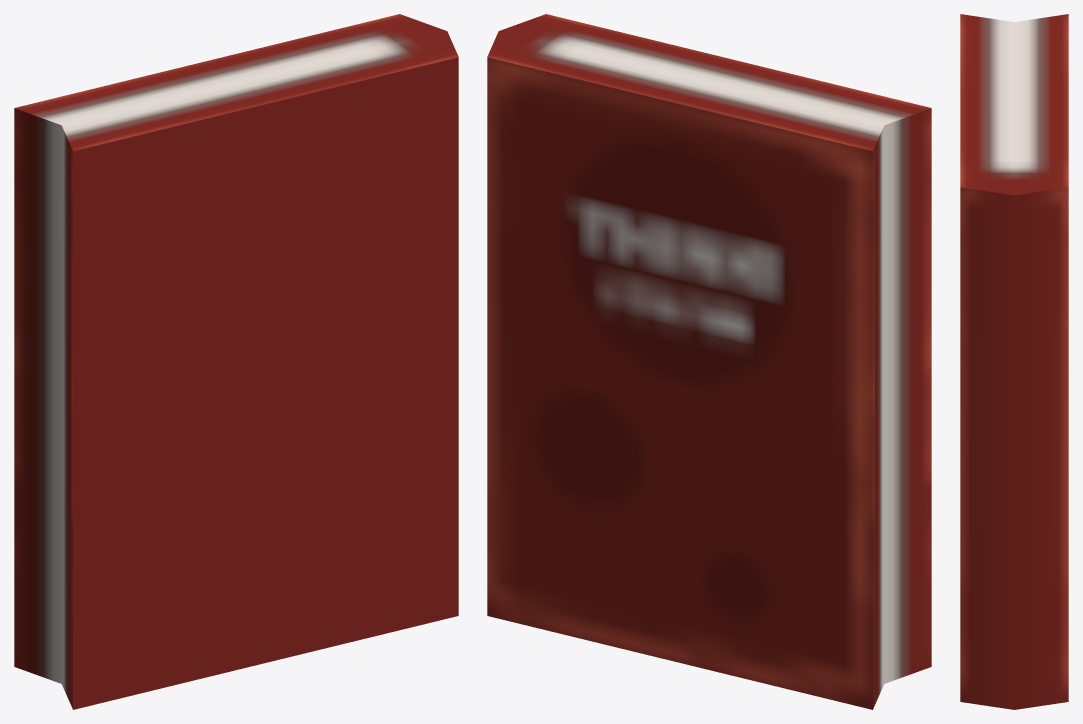
The model's file is TNP0110006.FBX.
3 renders of one model, left to right at view 1: azimuth 30°, elevation 25°; view 2: azimuth 150°, elevation 25°; view 3: azimuth 270°, elevation 25°, orthographic. The views are drawn at different scales.
Parts seen in each view (by area): view 1: smTNP0110006; view 2: smTNP0110006; view 3: smTNP0110006.
Part boxes in pixels (<box>): smTNP0110006: <box>14,14,458,709</box>; smTNP0110006: <box>487,14,931,709</box>; smTNP0110006: <box>960,14,1068,709</box>.
Size of the model in its own units: 0.1941 by 0.2567 by 0.0491.
Materials: 1 (1 with a texture image).
